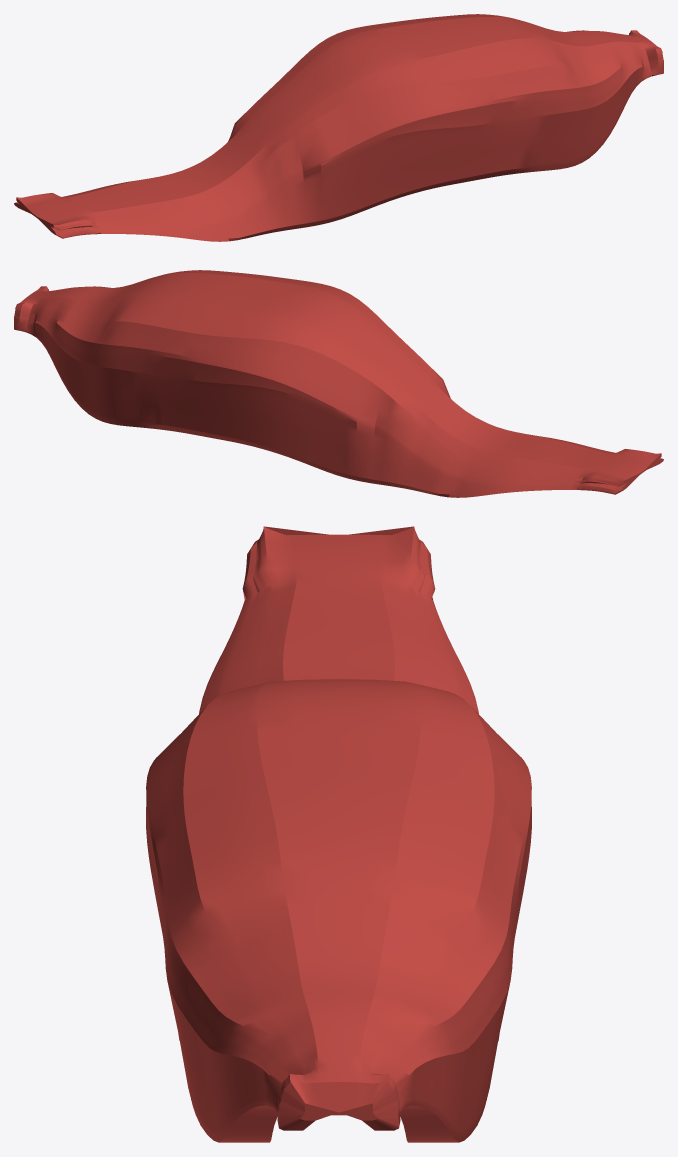
Rendered from adventure_2_lod1.glb.
3 views of the same model, one above another, from view 1: azimuth 30°, elevation 25°; view 2: azimuth 150°, elevation 25°; view 3: azimuth 270°, elevation 25° (orthographic). The views are drawn at different scales.
Visible parts, largest first — view 1: adventure_2_lod1; view 2: adventure_2_lod1; view 3: adventure_2_lod1.
Part boxes in pixels (x1=…): adventure_2_lod1: x1=14, y1=14, x2=663, y2=241; adventure_2_lod1: x1=14, y1=270, x2=663, y2=497; adventure_2_lod1: x1=146, y1=526, x2=531, y2=1142.
Bounding box in the file's own units: 1.61 × 0.3299 × 0.4353.
